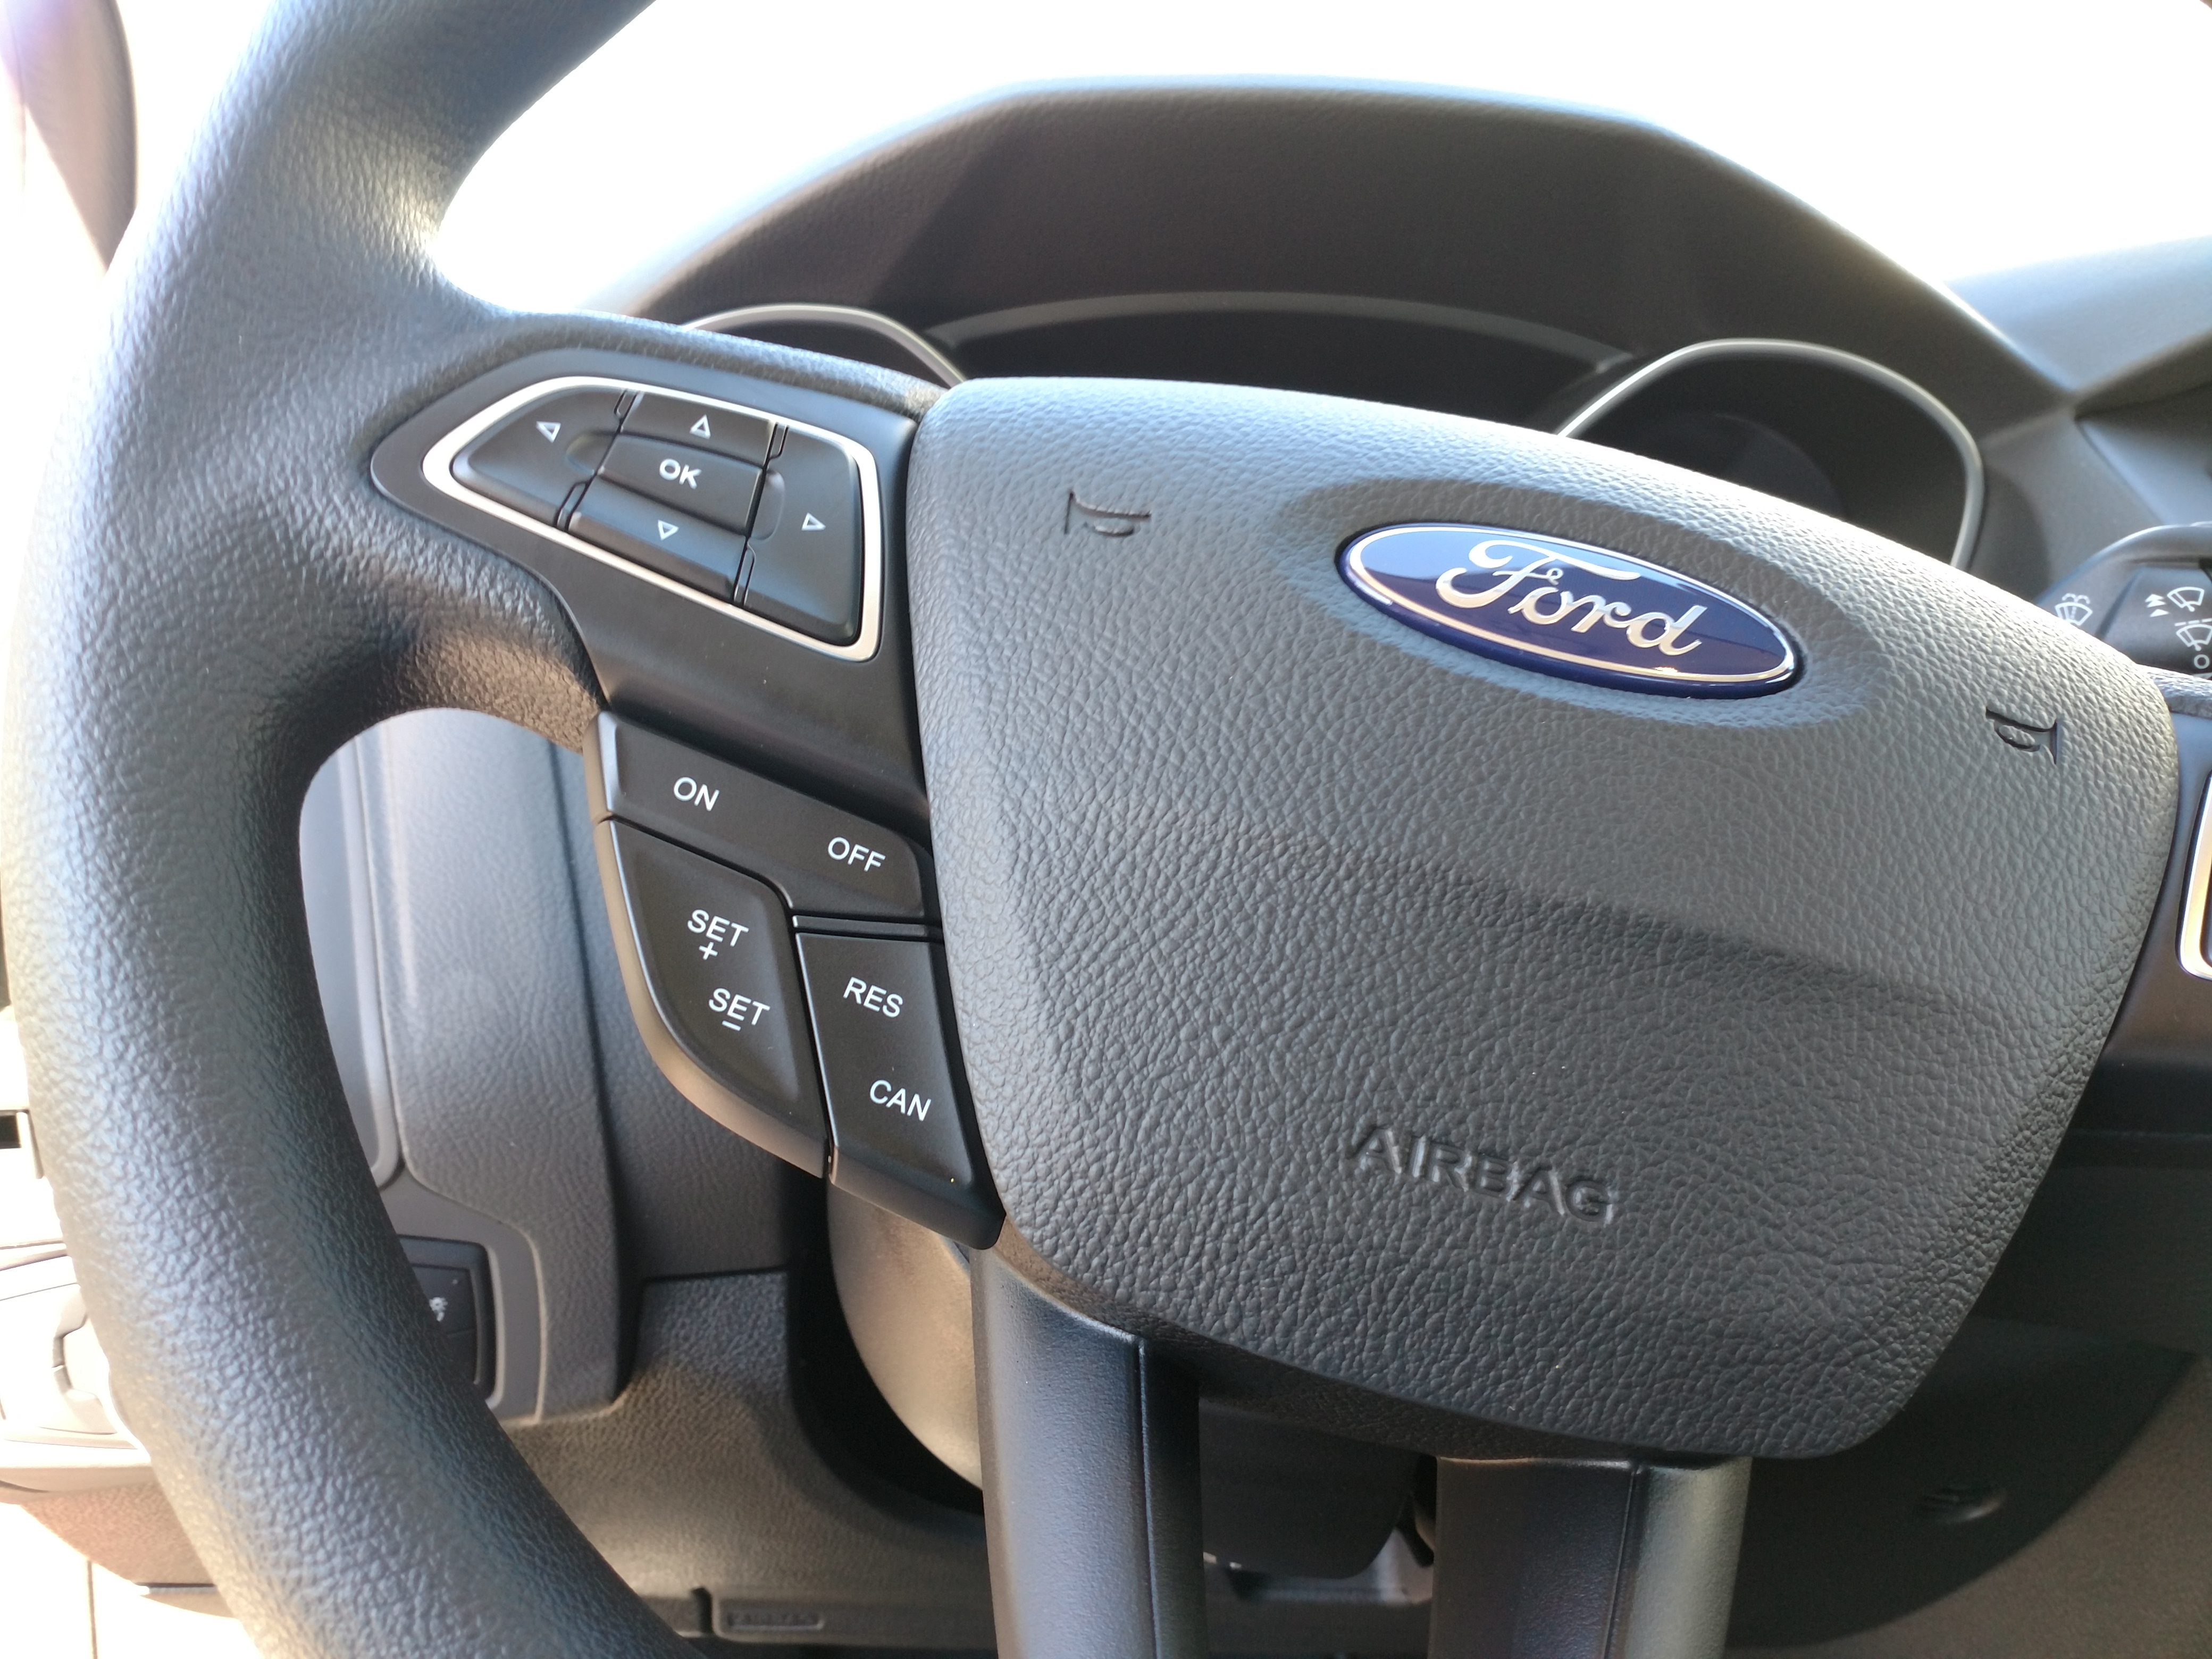Ford: (1324, 495, 1811, 727)
